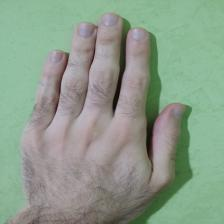five: (27, 10, 190, 215)
